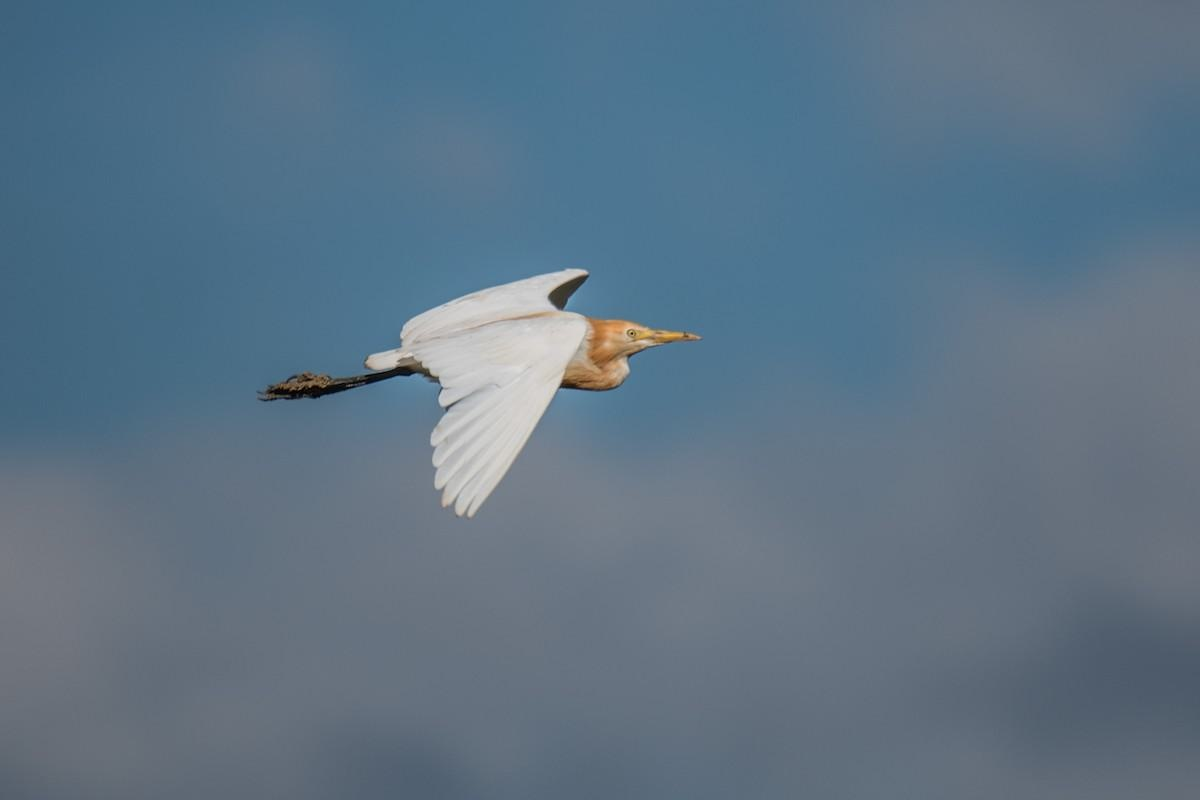egret: (251, 255, 731, 498)
